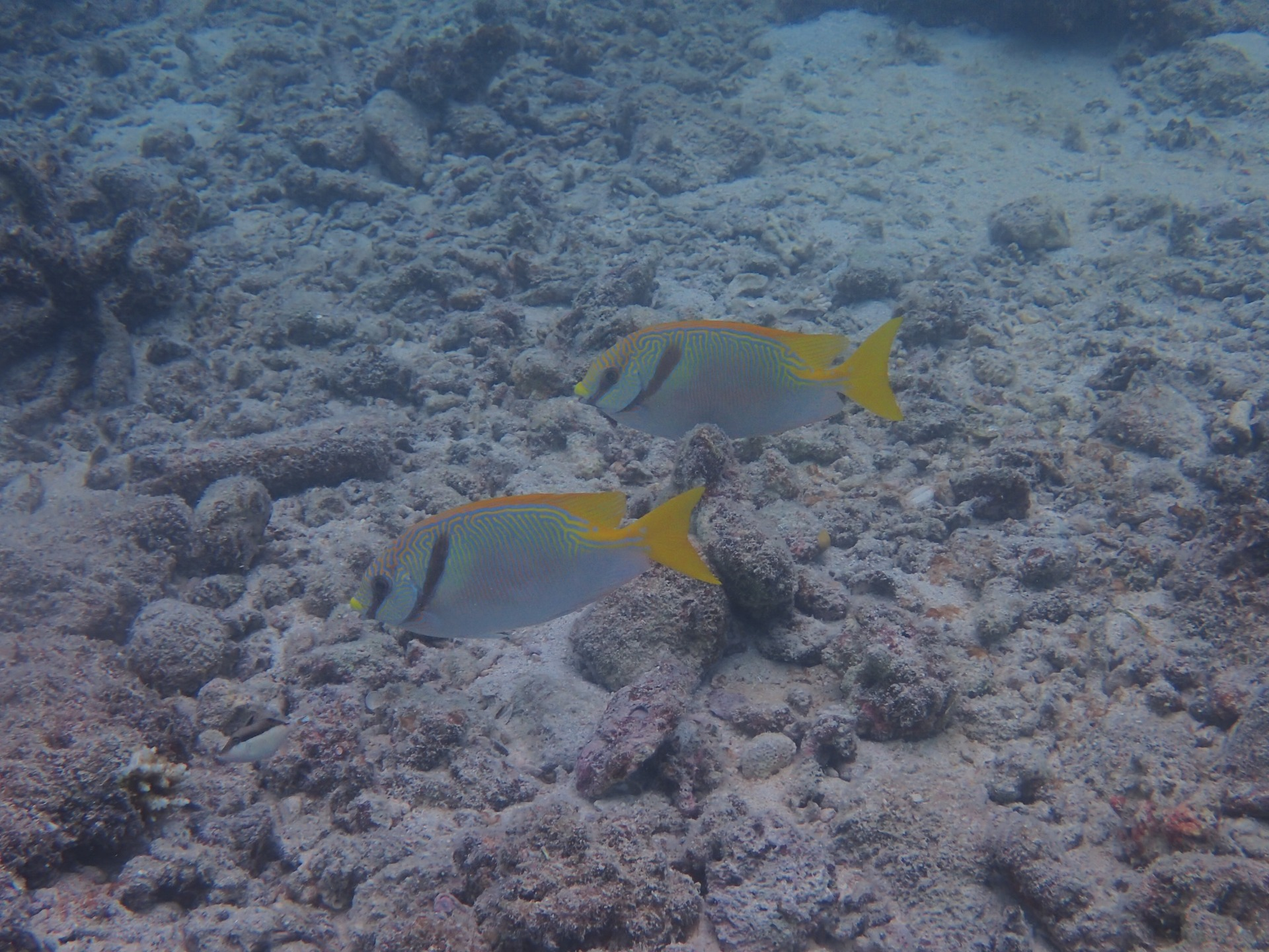fishbody: (348, 482, 721, 643), (573, 313, 903, 443)
fishhead: (568, 332, 683, 432), (343, 532, 452, 636)
